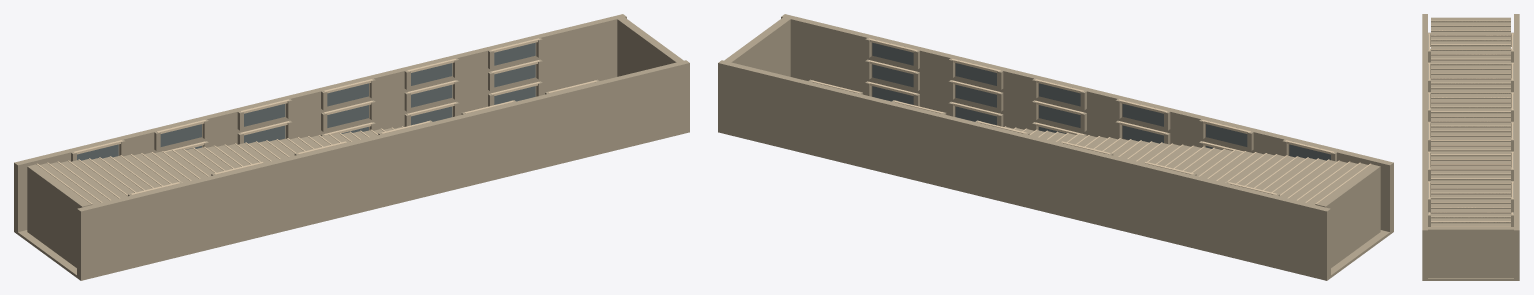
Rendered from agrasen-ki-baoli.glb.
3 views of the same model, side by side, from view 1: azimuth 30°, elevation 25°; view 2: azimuth 150°, elevation 25°; view 3: azimuth 270°, elevation 25° (orthographic). The views are drawn at different scales.
Visible parts, largest first — view 1: NCR_agrasen-ki-baoli; view 2: NCR_agrasen-ki-baoli; view 3: NCR_agrasen-ki-baoli.
Boxes of the visible parts, x1,y1,x2,y2 form: NCR_agrasen-ki-baoli: (14,14,689,280); NCR_agrasen-ki-baoli: (718,14,1393,280); NCR_agrasen-ki-baoli: (1422,14,1519,280).
Size of the model in its own units: 73.2 by 8 by 13.92.
